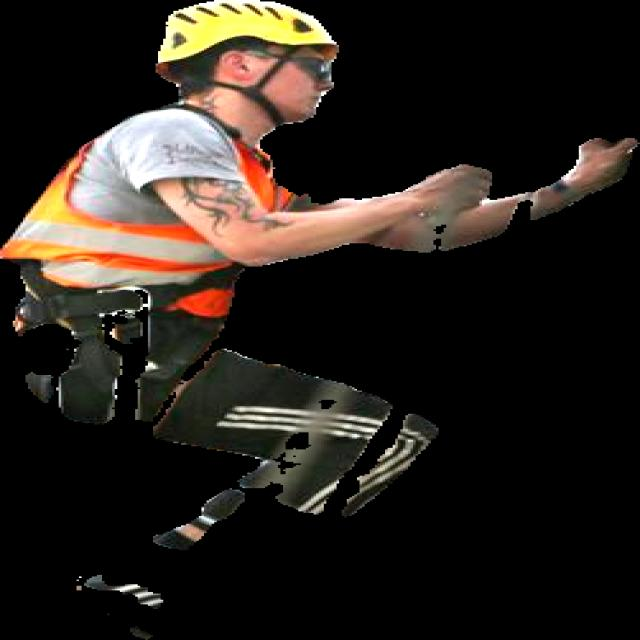Pessoa: (0, 0, 639, 514)
